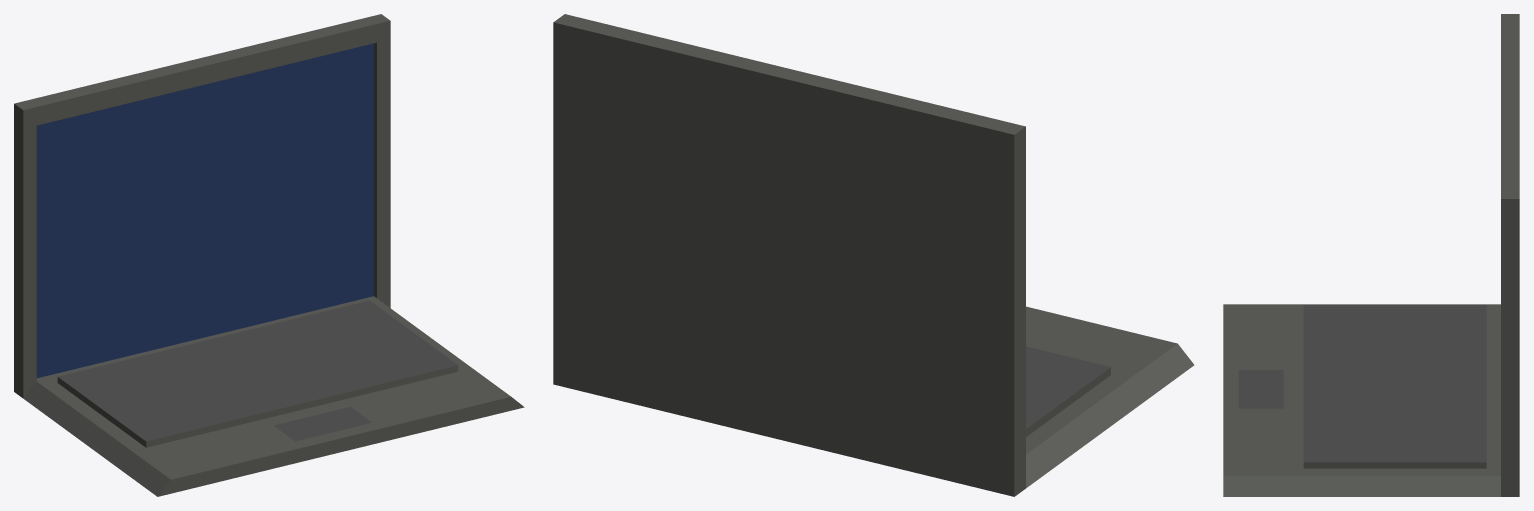
File: laptop.fbx
3 renders of one model, left to right at view 1: azimuth 30°, elevation 25°; view 2: azimuth 150°, elevation 25°; view 3: azimuth 270°, elevation 25°, orthographic. The views are drawn at different scales.
Visible parts, largest first — view 1: laptop; view 2: laptop; view 3: laptop.
Boxes of the visible parts, x1=… form: laptop: x1=14, y1=14, x2=524, y2=496; laptop: x1=553, y1=14, x2=1194, y2=496; laptop: x1=1223, y1=14, x2=1519, y2=496.
Size of the model in its own units: 116 by 86.79 by 78.26.
